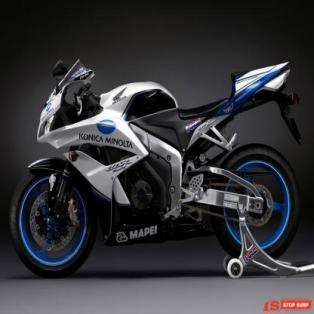Motocicleta: (7, 54, 311, 284)
